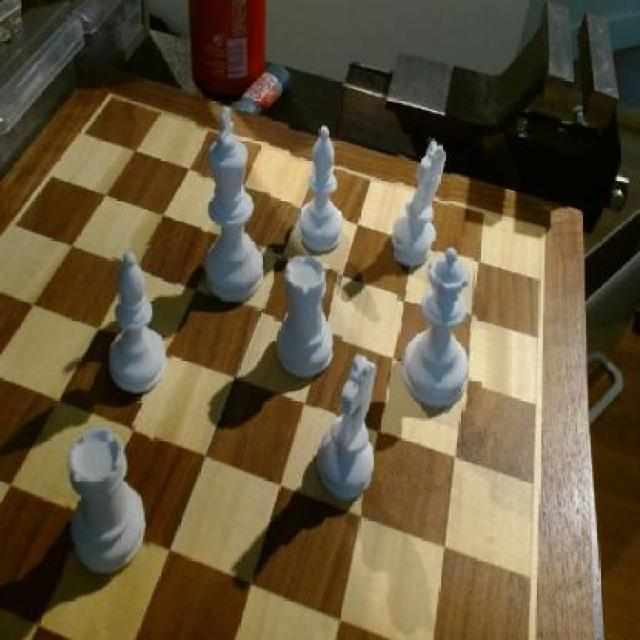black-rook: (108, 245, 177, 404), (291, 115, 349, 257)
white-bishop: (197, 100, 272, 312)
white-king: (314, 352, 388, 511), (392, 135, 452, 274)
white-pawn: (397, 238, 481, 417)
white-queen: (65, 422, 153, 580), (274, 252, 346, 386)
